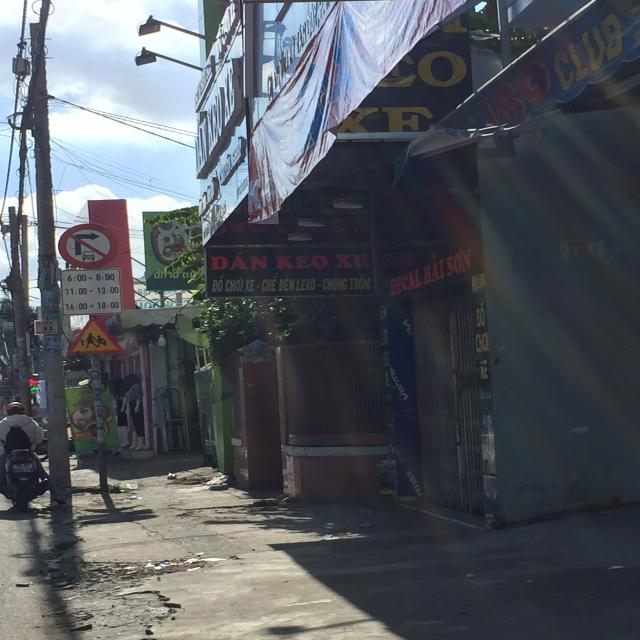bien_cam: (59, 224, 121, 266)
bien_nguy_hiem: (69, 317, 124, 354)
